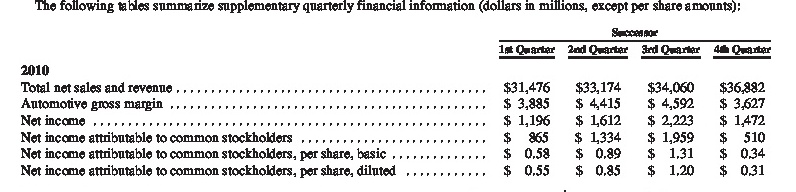table: (0, 0, 796, 192)
